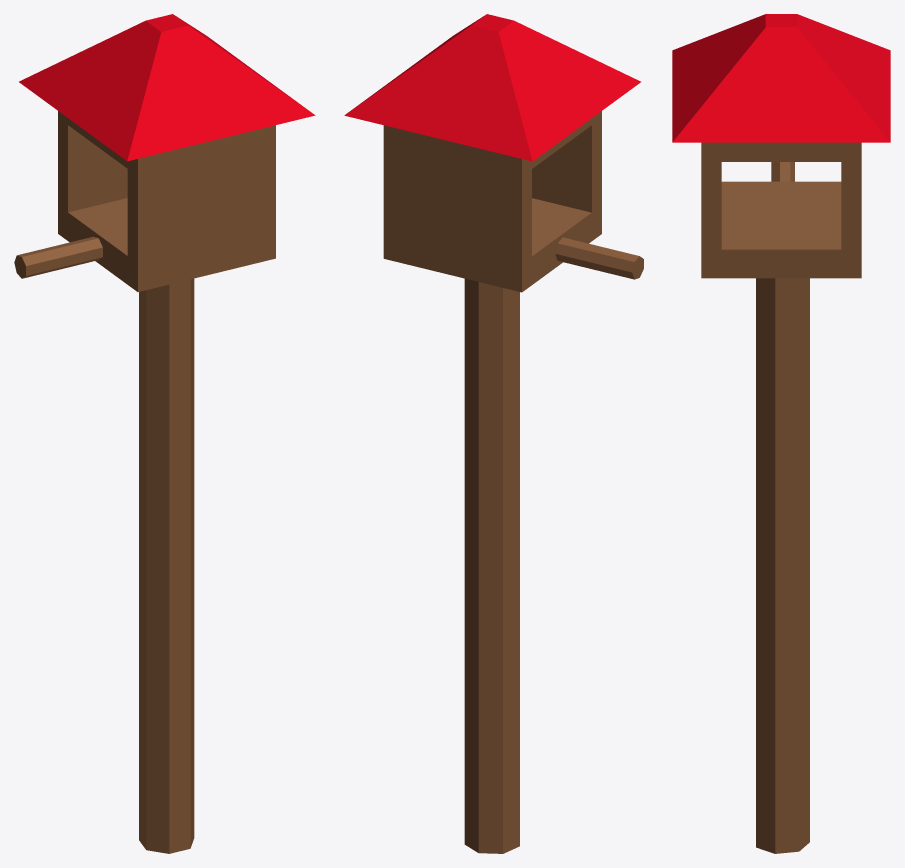
Rendered from budka.glb.
3 renders of one model, left to right at view 1: azimuth 30°, elevation 25°; view 2: azimuth 150°, elevation 25°; view 3: azimuth 270°, elevation 25°, orthographic.
Parts seen in each view (by area): view 1: Cylinder; view 2: Cylinder; view 3: Cylinder.
Boxes of the visible parts, x1,y1,x2,y2 form: Cylinder: [14, 14, 315, 853]; Cylinder: [344, 14, 643, 853]; Cylinder: [672, 14, 890, 853].
Size of the model in its own units: 0.0565 by 0.184 by 0.0443.
